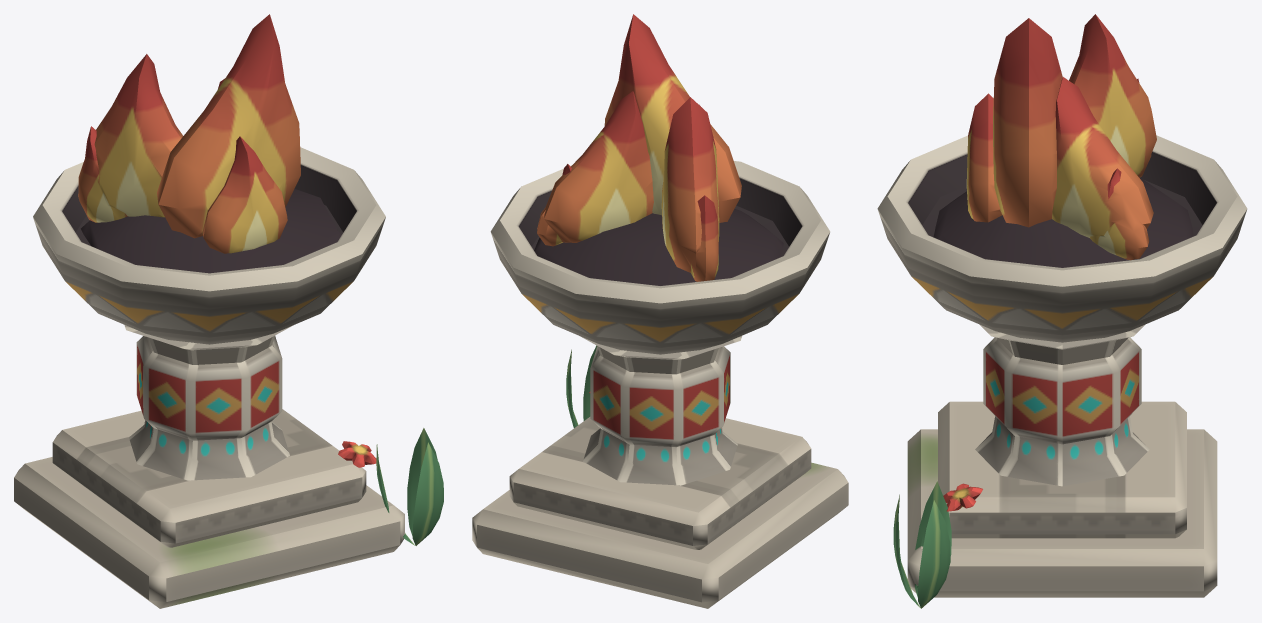
File: fire_bowl.glb
3 renders of one model, left to right at view 1: azimuth 30°, elevation 25°; view 2: azimuth 150°, elevation 25°; view 3: azimuth 270°, elevation 25°, orthographic. The views are drawn at different scales.
Parts seen in each view (by area): view 1: fire_bowl, fire_bowl__flame; view 2: fire_bowl, fire_bowl__flame; view 3: fire_bowl, fire_bowl__flame.
Boxes of the visible parts, x1=… form: fire_bowl: x1=14, y1=147, x2=443, y2=608; fire_bowl__flame: x1=78, y1=14, x2=300, y2=253; fire_bowl: x1=472, y1=161, x2=848, y2=608; fire_bowl__flame: x1=537, y1=14, x2=741, y2=281; fire_bowl: x1=877, y1=135, x2=1247, y2=608; fire_bowl__flame: x1=966, y1=14, x2=1156, y2=260.
Bounding box in the file's own units: 1.31 × 2.05 × 1.26.
Materials: 1 (1 with a texture image).
